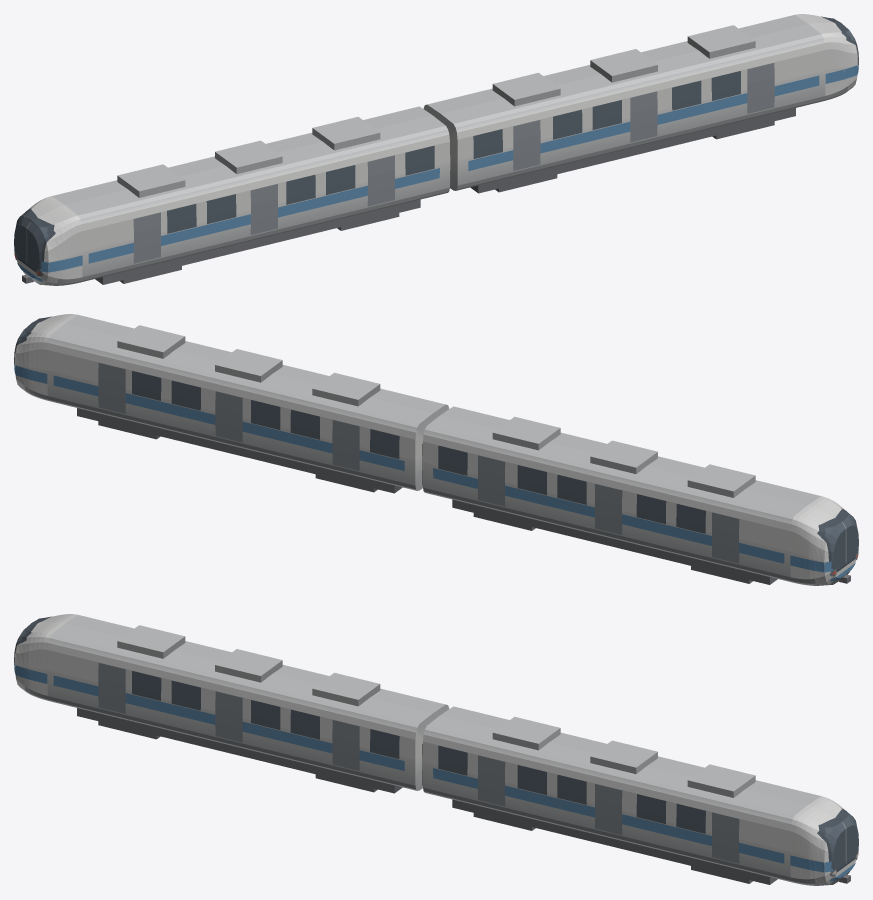
Rendered from 01_TRA_modern_3x2-04.glb.
3 views of the same model, one above another, from view 1: azimuth 30°, elevation 25°; view 2: azimuth 150°, elevation 25°; view 3: azimuth 330°, elevation 25° (orthographic).
Size of the model in its own units: 39.48 by 3.98 by 2.94.
